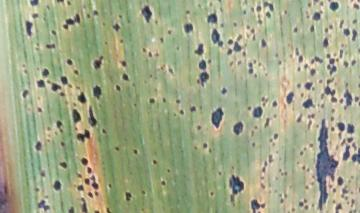tarspot: (316, 119, 339, 209), (229, 174, 244, 203), (63, 14, 80, 30), (87, 104, 98, 126), (211, 108, 223, 128), (140, 4, 152, 23), (343, 88, 353, 110), (323, 83, 337, 98), (89, 173, 100, 190), (77, 129, 90, 142), (252, 105, 264, 119), (250, 198, 261, 213), (79, 196, 88, 213), (24, 20, 33, 36), (343, 143, 351, 161), (93, 57, 104, 70), (233, 122, 244, 135), (351, 26, 359, 43), (183, 22, 194, 34), (207, 13, 218, 25), (77, 92, 87, 105), (72, 109, 82, 122), (200, 73, 210, 86), (212, 30, 221, 44), (302, 99, 316, 108), (263, 1, 274, 12), (328, 1, 339, 12), (194, 44, 204, 56), (352, 149, 360, 164), (52, 180, 62, 192), (93, 86, 101, 100), (309, 56, 323, 64), (39, 201, 50, 211), (233, 40, 242, 52), (60, 75, 69, 86), (50, 82, 61, 91), (336, 121, 345, 132), (286, 91, 294, 103), (36, 80, 46, 89), (121, 72, 130, 82), (304, 81, 314, 90), (327, 65, 336, 75), (198, 59, 206, 70), (336, 176, 344, 187), (113, 84, 122, 93), (312, 11, 321, 20), (342, 28, 351, 37), (22, 89, 30, 99), (347, 124, 355, 134), (83, 176, 91, 186), (76, 184, 86, 192), (42, 67, 49, 78), (263, 117, 270, 128), (55, 120, 63, 129), (112, 23, 120, 32), (81, 157, 88, 167), (260, 39, 267, 49), (322, 37, 329, 47), (45, 43, 56, 49), (59, 161, 67, 169), (246, 61, 254, 69), (327, 57, 335, 65), (326, 77, 334, 85), (307, 111, 315, 119), (221, 87, 228, 96), (226, 47, 233, 56), (87, 190, 94, 199), (244, 30, 251, 39), (257, 13, 262, 25), (294, 46, 300, 56), (336, 203, 342, 213), (66, 59, 74, 66), (35, 142, 42, 150), (92, 9, 99, 17), (120, 60, 127, 68), (189, 105, 196, 113), (167, 68, 175, 75), (205, 57, 212, 65), (236, 33, 243, 41), (271, 100, 278, 108), (342, 60, 349, 68), (330, 97, 338, 104), (339, 139, 346, 147), (339, 19, 344, 30), (298, 54, 304, 63), (354, 95, 360, 104), (297, 113, 303, 122), (126, 192, 132, 201), (40, 169, 46, 178), (29, 1, 39, 6), (307, 119, 312, 129), (352, 143, 357, 153), (350, 198, 355, 208), (132, 148, 139, 155), (309, 68, 316, 75), (353, 3, 360, 10), (298, 201, 305, 208), (51, 29, 57, 37), (147, 50, 153, 58), (148, 97, 156, 103), (46, 3, 52, 11), (351, 59, 357, 67), (273, 132, 279, 140), (260, 201, 266, 209), (218, 5, 224, 13), (266, 11, 271, 20), (309, 24, 314, 33), (250, 129, 255, 138), (268, 154, 273, 163), (339, 48, 343, 59), (32, 13, 39, 19), (37, 107, 43, 114), (73, 69, 79, 76), (166, 28, 172, 35), (227, 39, 234, 45), (328, 23, 334, 30), (344, 81, 350, 88), (250, 142, 256, 149), (160, 179, 166, 186), (304, 204, 310, 211), (304, 184, 310, 191), (86, 167, 92, 174), (196, 2, 202, 9), (23, 66, 28, 74), (229, 60, 234, 68), (339, 97, 344, 105), (101, 128, 107, 134), (256, 5, 262, 11), (245, 24, 251, 30), (283, 9, 289, 15), (160, 62, 164, 71), (299, 92, 305, 98), (306, 2, 312, 8), (323, 27, 329, 33), (351, 19, 357, 25), (308, 142, 314, 148), (272, 113, 278, 119), (260, 183, 266, 189), (261, 167, 267, 173), (302, 197, 308, 203), (77, 173, 83, 179), (68, 207, 74, 213), (288, 53, 294, 59), (86, 12, 91, 19), (101, 20, 106, 27), (162, 97, 167, 104), (75, 85, 82, 90), (242, 9, 247, 16), (247, 68, 254, 73), (341, 189, 348, 194), (106, 208, 113, 213), (243, 41, 248, 48), (141, 47, 146, 53), (60, 141, 65, 147), (175, 99, 180, 105), (179, 110, 185, 115), (59, 128, 64, 134), (218, 41, 223, 47), (219, 24, 225, 29), (114, 146, 120, 151), (152, 159, 157, 165), (166, 168, 171, 174), (237, 60, 242, 66), (242, 51, 247, 57), (250, 7, 255, 13), (175, 45, 180, 51), (196, 125, 202, 130), (202, 143, 208, 148), (293, 27, 298, 33), (304, 63, 309, 69), (318, 79, 323, 85), (326, 53, 331, 59), (274, 52, 280, 57), (338, 133, 343, 139), (209, 191, 214, 197), (298, 151, 304, 156), (302, 146, 308, 151), (283, 193, 289, 198), (348, 136, 353, 142), (311, 174, 316, 180), (140, 190, 146, 195), (132, 102, 137, 108), (148, 72, 153, 78), (271, 141, 276, 147), (160, 37, 164, 44), (154, 53, 161, 57), (306, 13, 310, 20), (312, 1, 319, 5), (264, 160, 268, 167), (284, 170, 288, 177), (119, 39, 124, 44), (118, 14, 123, 19), (185, 10, 190, 15), (46, 138, 51, 143), (233, 22, 238, 27), (247, 106, 252, 111), (257, 62, 262, 67), (193, 145, 198, 150), (297, 67, 302, 72), (330, 116, 335, 121), (260, 175, 265, 180), (328, 184, 333, 189), (94, 191, 99, 196), (35, 187, 40, 192), (340, 42, 345, 47), (57, 1, 65, 4), (59, 92, 65, 96), (104, 39, 108, 45), (155, 20, 159, 26), (196, 79, 200, 85), (253, 35, 257, 41), (250, 29, 256, 33), (253, 73, 259, 77), (208, 147, 212, 153), (320, 1, 324, 7), (331, 126, 335, 132), (332, 187, 336, 193), (344, 194, 348, 200), (108, 183, 112, 189), (94, 209, 100, 213), (243, 1, 249, 5), (231, 164, 235, 170), (264, 71, 268, 77), (295, 160, 301, 164), (346, 199, 350, 205), (67, 1, 71, 6), (47, 126, 51, 131), (36, 46, 40, 51), (261, 96, 265, 101), (297, 84, 301, 89), (208, 2, 213, 6), (320, 103, 324, 108), (331, 108, 335, 113), (218, 171, 222, 176), (278, 167, 282, 172), (279, 199, 284, 203), (292, 208, 296, 213), (302, 166, 306, 171), (340, 193, 344, 198), (348, 209, 353, 213), (352, 208, 356, 213), (347, 180, 352, 184), (316, 123, 320, 128), (350, 191, 354, 196), (333, 200, 337, 204), (218, 1, 223, 4), (351, 176, 354, 181), (279, 61, 282, 65), (270, 139, 273, 142), (308, 168, 310, 172), (357, 1, 360, 3), (350, 1, 353, 2)
